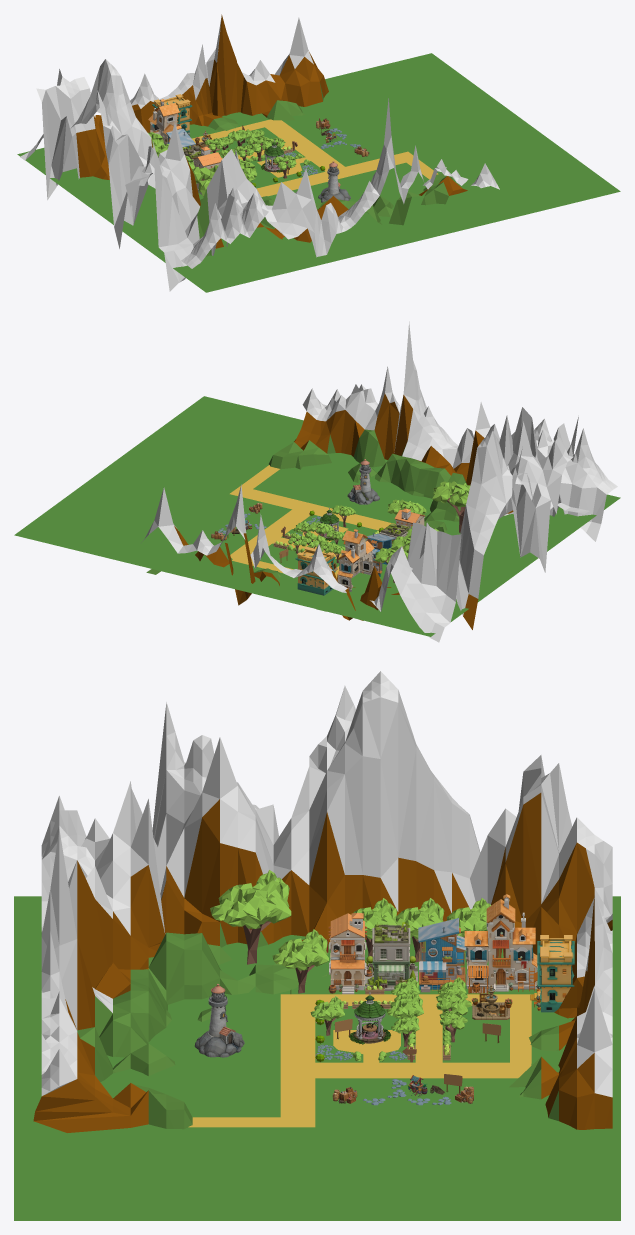
File: Mapa.glb
The picture shows the model from 3 angles, top to bottom: view 1: azimuth 30°, elevation 25°; view 2: azimuth 150°, elevation 25°; view 3: azimuth 270°, elevation 25°; orthographic projection. The views are drawn at different scales.
Parts seen in each view (by area): view 1: Plano, Terrain_Plane.001, Plano.001, tripo_node_fa8f3399-d409-4202-a671-11f436a0217d, tripo_node_8c59b4b1-dcf3-4e26-aff6-5970e21bc8ce, tripo_node_e72f2716-1f66-4327-9964-6965f5100714, tripo_node_c60fd244-02a3-4d56-b902-4a63d0f10e55, tripo_node_47fe0076-b20e-4d3a-8fa3-3a99832de8cb, Node.029; view 2: Terrain_Plane.001, Plano, Plano.001, tripo_node_fa8f3399-d409-4202-a671-11f436a0217d, tripo_node_e72f2716-1f66-4327-9964-6965f5100714, Node.029, tripo_node_8c59b4b1-dcf3-4e26-aff6-5970e21bc8ce, tripo_node_39938307-80a9-43f7-a3b2-e7985cfc708c; view 3: Terrain_Plane.001, Plano, Plano.001, tripo_node_fa8f3399-d409-4202-a671-11f436a0217d, Node.029, tripo_node_39938307-80a9-43f7-a3b2-e7985cfc708c, tripo_node_c60fd244-02a3-4d56-b902-4a63d0f10e55, tripo_node_d25dc21e-a3bd-4a8e-9d9b-80a3b66471c8, tripo_node_e72f2716-1f66-4327-9964-6965f5100714, tripo_node_8c59b4b1-dcf3-4e26-aff6-5970e21bc8ce, Node.022, tripo_node_47fe0076-b20e-4d3a-8fa3-3a99832de8cb (+4 smaller).
Part boxes in pixels (bbox=[...]): Plano: bbox=[17, 53, 620, 292]; Terrain_Plane.001: bbox=[20, 14, 499, 291]; Plano.001: bbox=[192, 119, 438, 196]; tripo_node_fa8f3399-d409-4202-a671-11f436a0217d: bbox=[148, 99, 181, 143]; tripo_node_8c59b4b1-dcf3-4e26-aff6-5970e21bc8ce: bbox=[318, 161, 350, 202]; tripo_node_e72f2716-1f66-4327-9964-6965f5100714: bbox=[152, 94, 192, 135]; tripo_node_c60fd244-02a3-4d56-b902-4a63d0f10e55: bbox=[192, 146, 221, 194]; tripo_node_47fe0076-b20e-4d3a-8fa3-3a99832de8cb: bbox=[261, 140, 283, 172]; Node.029: bbox=[192, 165, 218, 196]; Terrain_Plane.001: bbox=[141, 321, 617, 642]; Plano: bbox=[14, 396, 620, 636]; Plano.001: bbox=[230, 465, 395, 578]; tripo_node_fa8f3399-d409-4202-a671-11f436a0217d: bbox=[337, 529, 374, 591]; tripo_node_e72f2716-1f66-4327-9964-6965f5100714: bbox=[295, 547, 335, 595]; Node.029: bbox=[432, 481, 470, 532]; tripo_node_8c59b4b1-dcf3-4e26-aff6-5970e21bc8ce: bbox=[347, 459, 379, 504]; tripo_node_39938307-80a9-43f7-a3b2-e7985cfc708c: bbox=[361, 533, 394, 576]; Terrain_Plane.001: bbox=[33, 671, 612, 1132]; Plano: bbox=[14, 896, 620, 1220]; Plano.001: bbox=[188, 994, 531, 1127]; tripo_node_fa8f3399-d409-4202-a671-11f436a0217d: bbox=[464, 894, 537, 993]; Node.029: bbox=[210, 870, 291, 964]; tripo_node_39938307-80a9-43f7-a3b2-e7985cfc708c: bbox=[418, 918, 466, 992]; tripo_node_c60fd244-02a3-4d56-b902-4a63d0f10e55: bbox=[326, 912, 371, 994]; tripo_node_d25dc21e-a3bd-4a8e-9d9b-80a3b66471c8: bbox=[364, 922, 417, 990]; tripo_node_e72f2716-1f66-4327-9964-6965f5100714: bbox=[530, 935, 574, 1012]; tripo_node_8c59b4b1-dcf3-4e26-aff6-5970e21bc8ce: bbox=[194, 984, 244, 1057]; Node.022: bbox=[272, 929, 328, 993]; tripo_node_47fe0076-b20e-4d3a-8fa3-3a99832de8cb: bbox=[349, 991, 390, 1044].
Bounding box in the file's own units: 12.5 × 5.03 × 9.74.
Materials: 33 (11 with a texture image).
